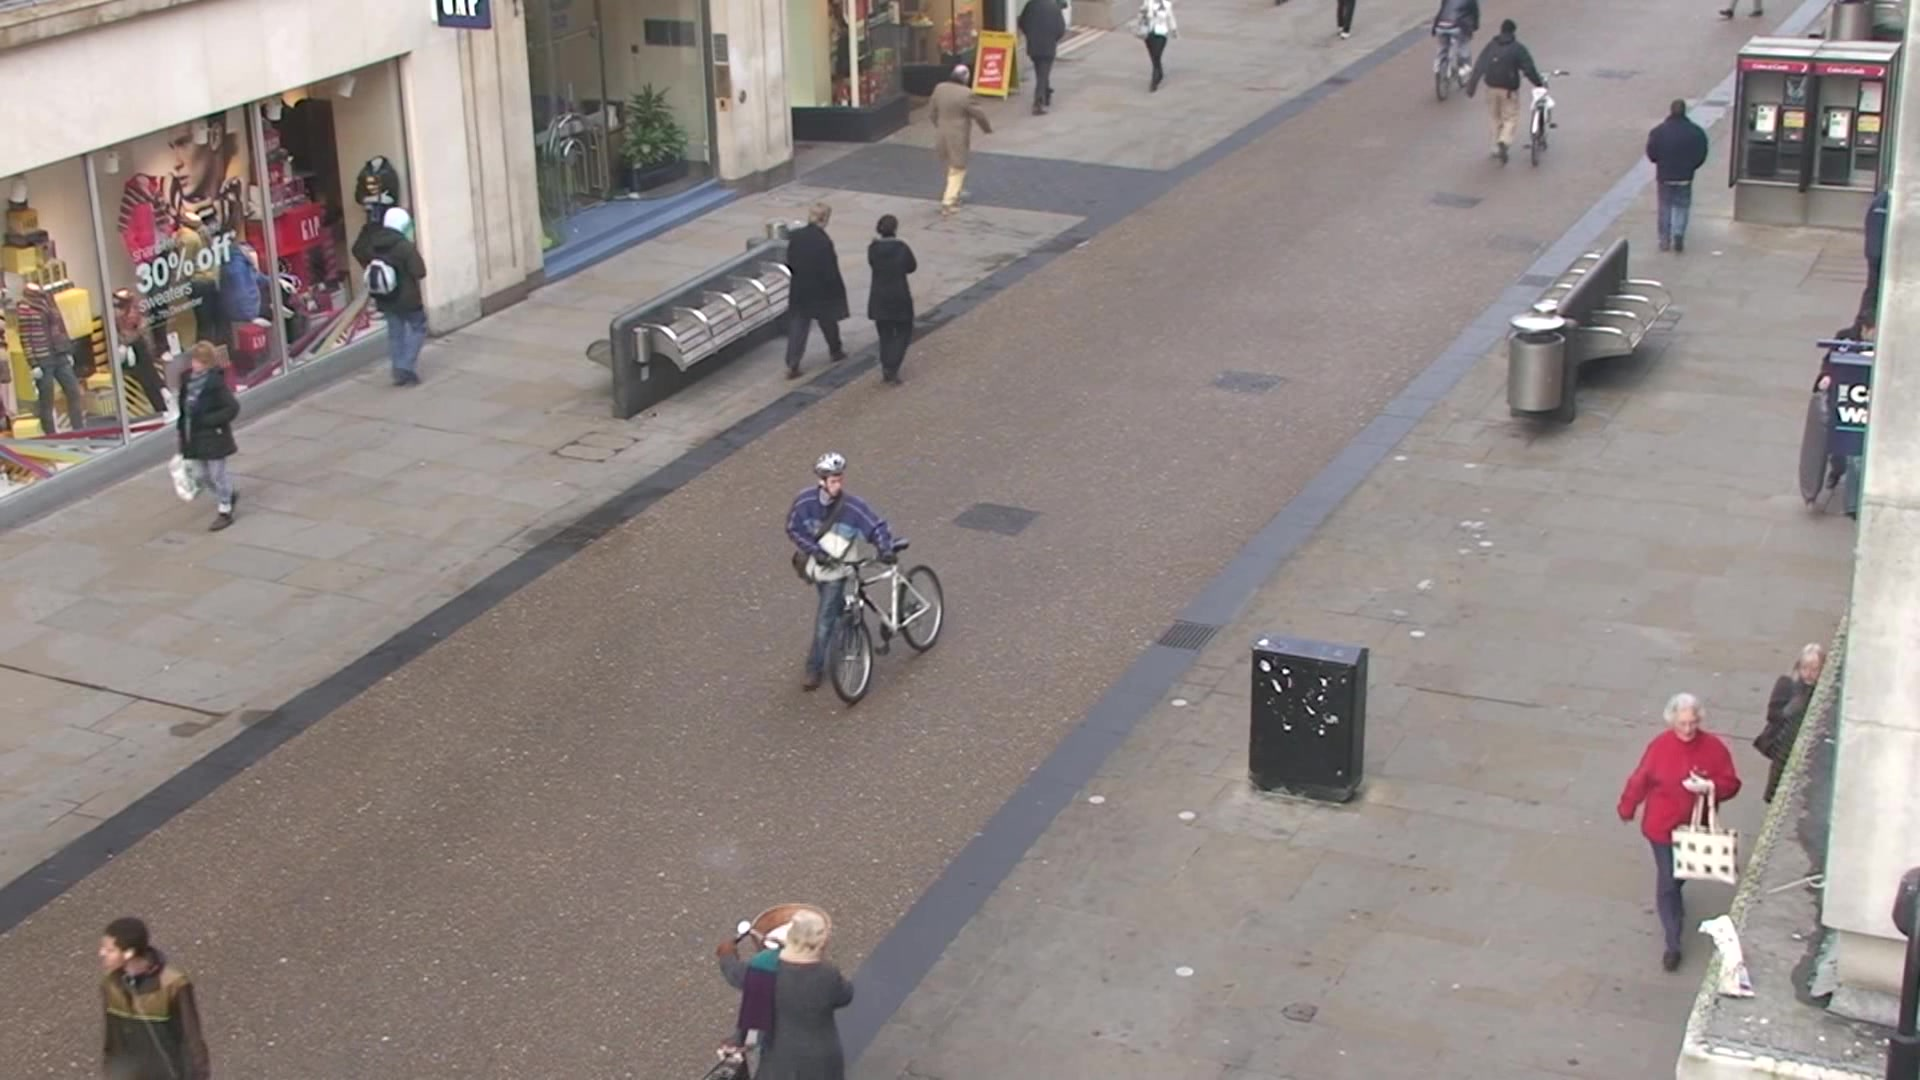person: (1619, 690, 1742, 975), (788, 453, 898, 692), (171, 336, 243, 533), (363, 207, 437, 392), (1468, 21, 1548, 165), (788, 201, 851, 376), (928, 65, 995, 212), (866, 216, 921, 392), (1647, 99, 1706, 254)
